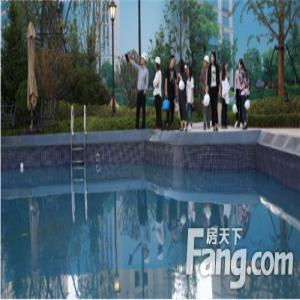none: (210, 50, 217, 65), (239, 58, 245, 72), (223, 59, 229, 72), (179, 59, 185, 72), (188, 64, 193, 79), (171, 55, 176, 68)
white: (140, 52, 148, 66), (155, 56, 162, 71), (204, 55, 210, 67)
